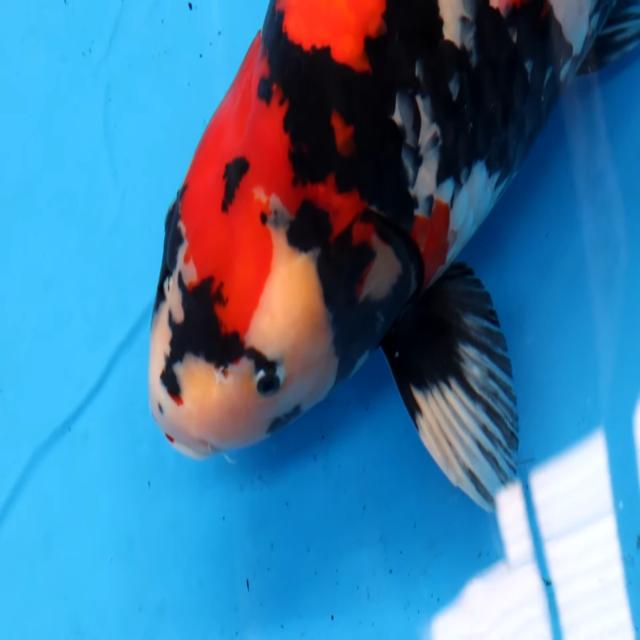Showa: (146, 0, 638, 513)
